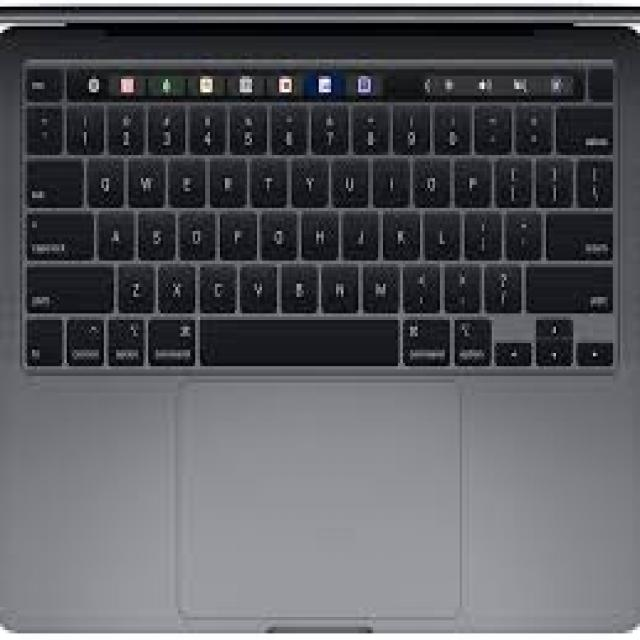others: (2, 3, 640, 620)
